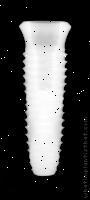Cowellmedi: (19, 21, 71, 177)
